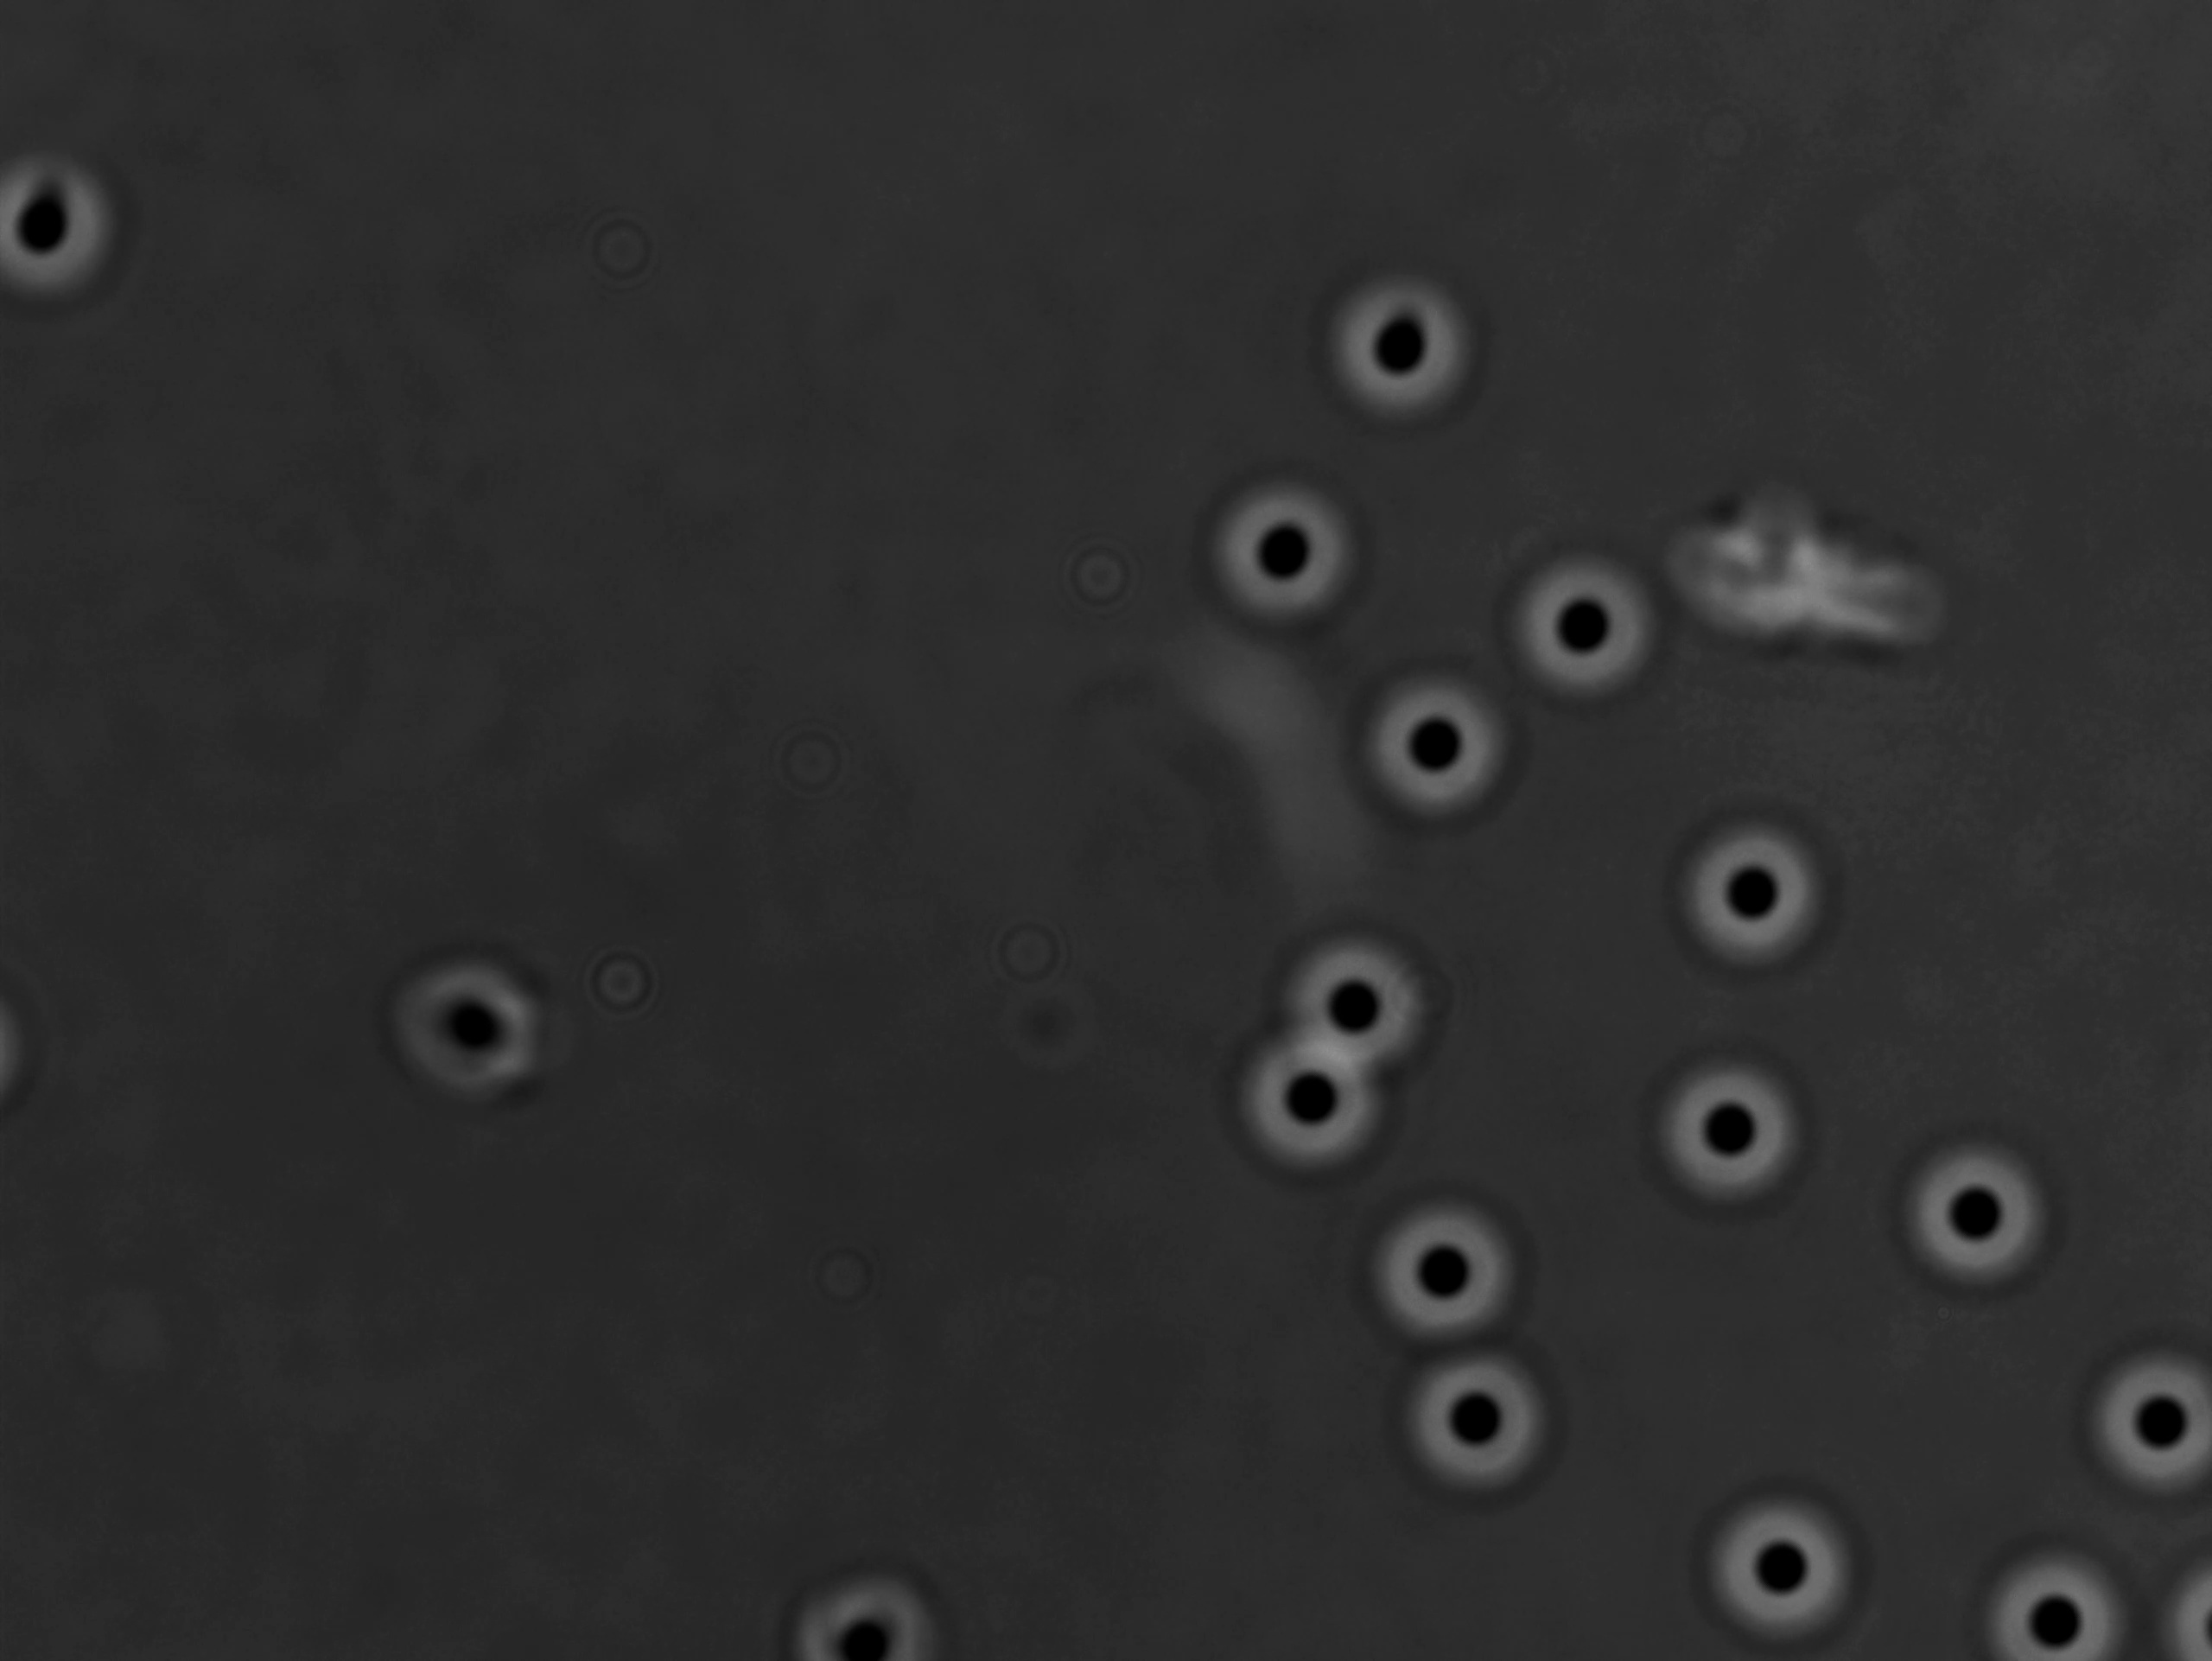depth:-40: (1659, 803, 1846, 979), (1642, 1042, 1823, 1213), (1499, 539, 1669, 710), (1275, 923, 1444, 1096), (1898, 1129, 2081, 1286), (1690, 1488, 1867, 1645), (1350, 663, 1516, 829), (1228, 1026, 1389, 1190), (1397, 1354, 1567, 1509), (1198, 468, 1359, 630), (1368, 1192, 1530, 1345), (1328, 270, 1485, 419), (2079, 1340, 2212, 1514), (1978, 1548, 2146, 1661)
